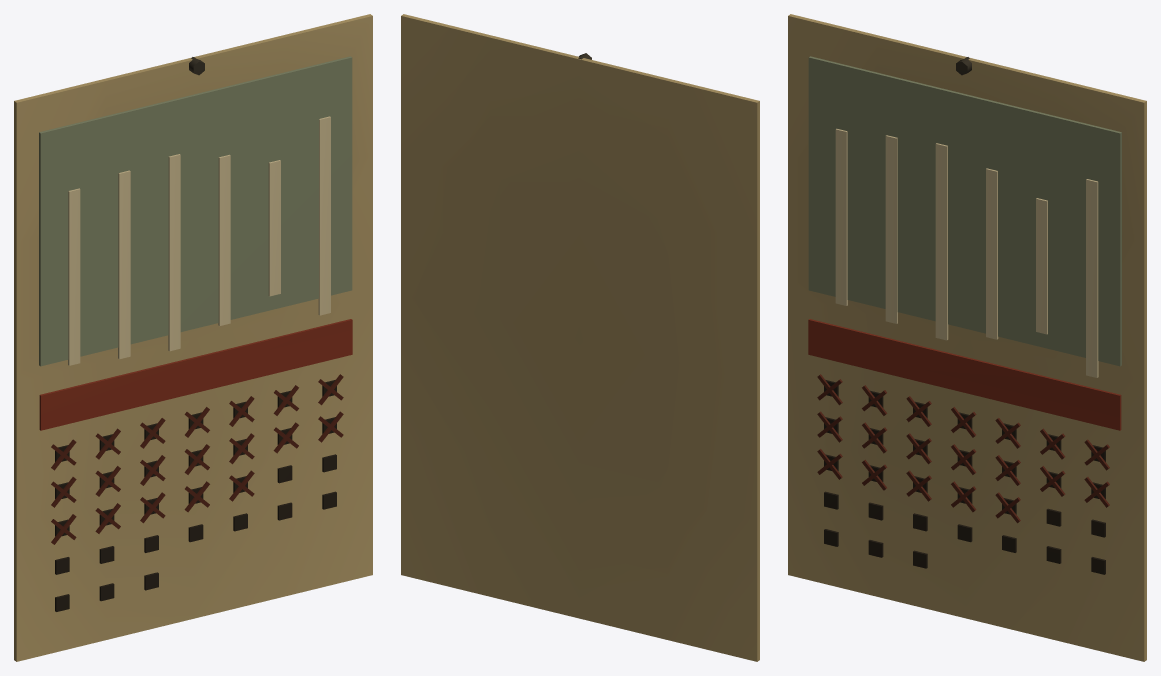
File: calendario.glb
The picture shows the model from 3 angles, left to right: view 1: azimuth 30°, elevation 25°; view 2: azimuth 150°, elevation 25°; view 3: azimuth 330°, elevation 25°; orthographic projection.
Visible parts, largest first — view 1: calendario.001; view 2: calendario.001; view 3: calendario.001.
Boxes of the visible parts, left/top/right/bottom form: calendario.001: left=14, top=14, right=372, bottom=661; calendario.001: left=401, top=14, right=759, bottom=661; calendario.001: left=788, top=14, right=1146, bottom=661.
Size of the model in its own units: 0.32 by 0.481 by 0.011.
